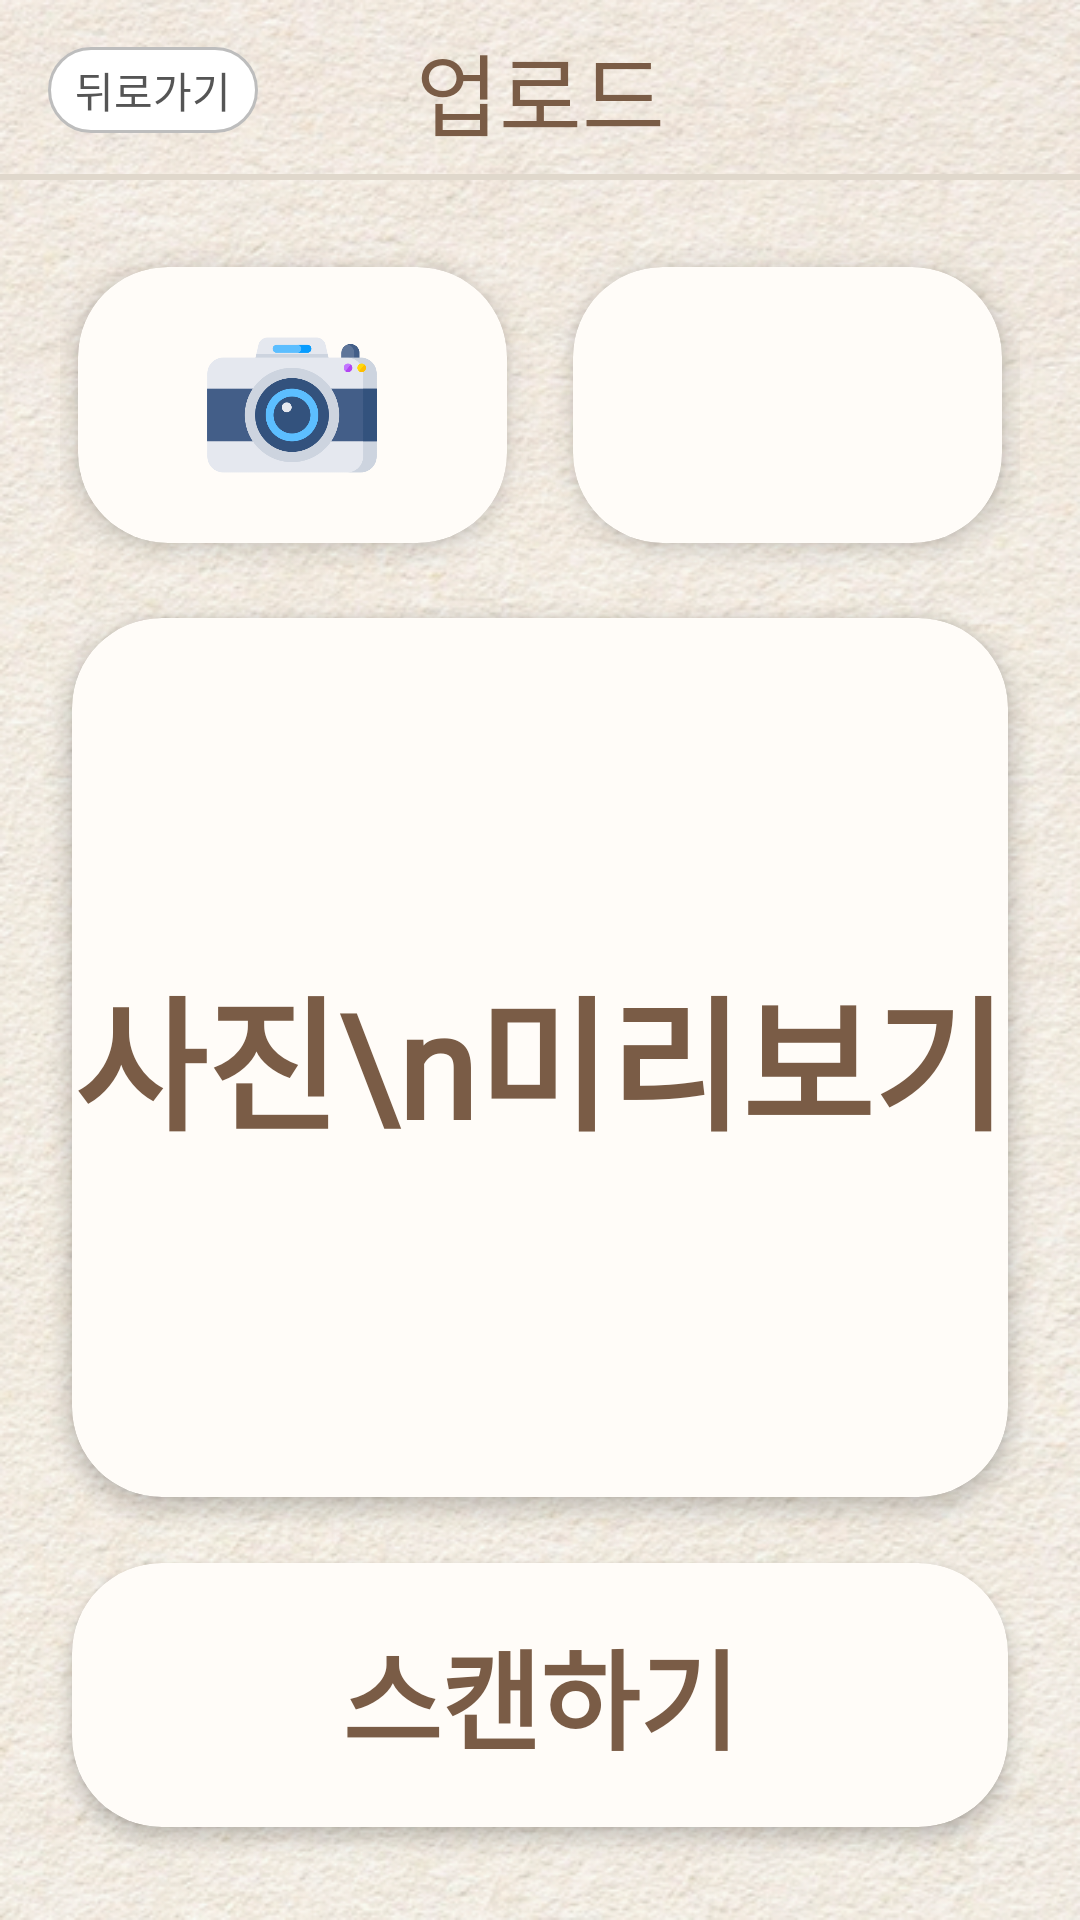

Icon bounding boxes for this 1080x1920 phone screenshot, format bbox(x1, y1, x2, y2):
camera: bbox(207, 338, 377, 472)
